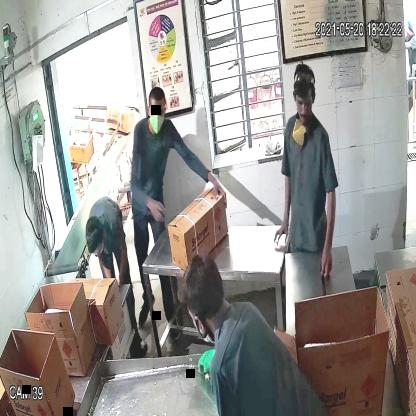no_goggles: (293, 92, 317, 114)
